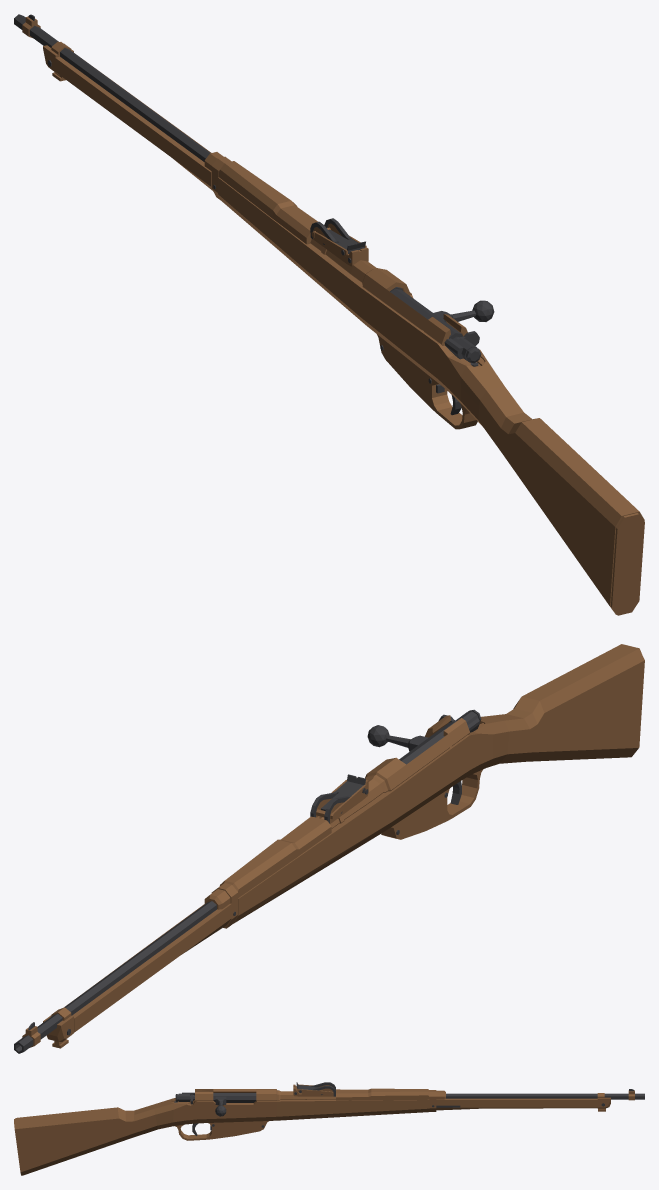
The picture shows the model from 3 angles, top to bottom: view 1: azimuth 30°, elevation 25°; view 2: azimuth 150°, elevation 25°; view 3: azimuth 270°, elevation 25°; orthographic projection. The views are drawn at different scales.
Visible parts, largest first — view 1: carcano-m1891; view 2: carcano-m1891; view 3: carcano-m1891.
Boxes of the visible parts, x1,y1,x2,y2 form: carcano-m1891: [14, 14, 644, 615]; carcano-m1891: [14, 644, 644, 1053]; carcano-m1891: [14, 1082, 644, 1175].
Bounding box in the file's own units: 0.0945 × 0.2014 × 1.29.
